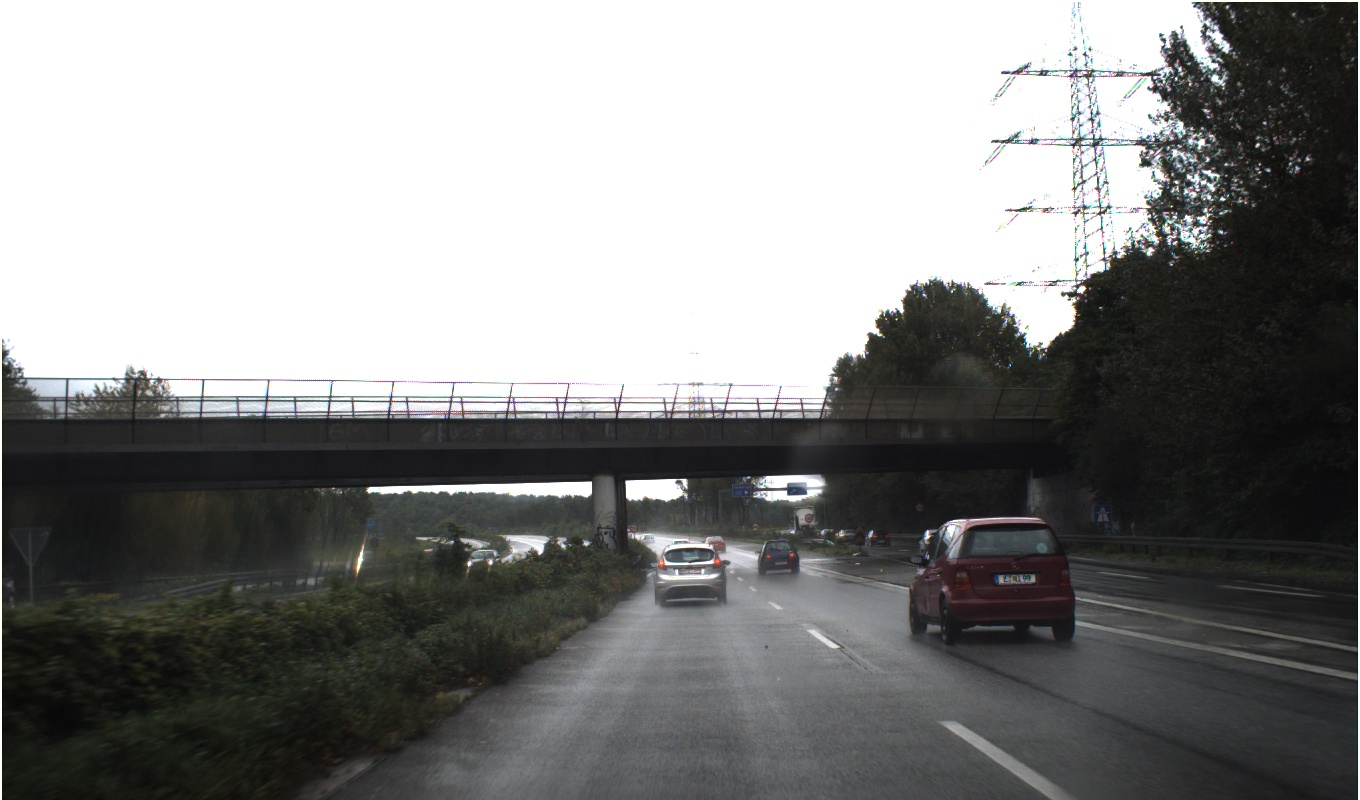car: (909, 558, 1084, 650), (641, 553, 731, 608), (461, 541, 515, 578), (910, 511, 948, 557), (758, 550, 804, 575), (702, 534, 732, 554), (869, 528, 895, 551), (352, 547, 374, 572), (838, 528, 857, 546), (639, 532, 657, 545), (820, 528, 838, 540), (670, 537, 693, 546)
